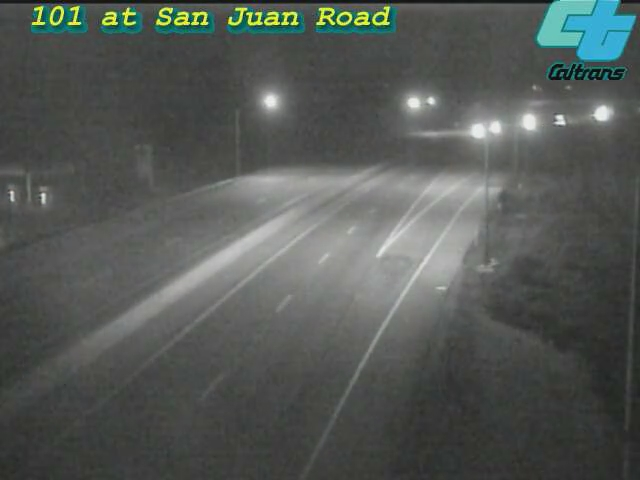vehicle: (533, 97, 583, 147), (452, 106, 502, 156), (503, 97, 553, 147), (471, 103, 521, 153), (575, 88, 625, 138)
